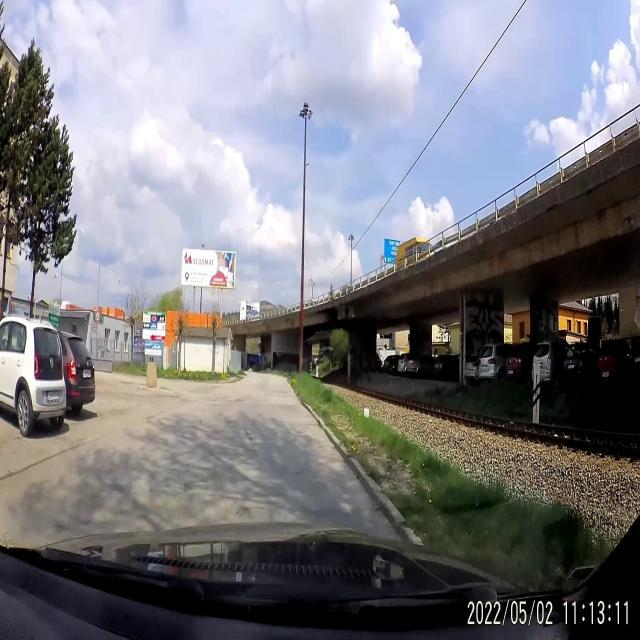Pothole: (240, 425, 260, 464), (230, 494, 252, 526), (284, 465, 306, 487)
